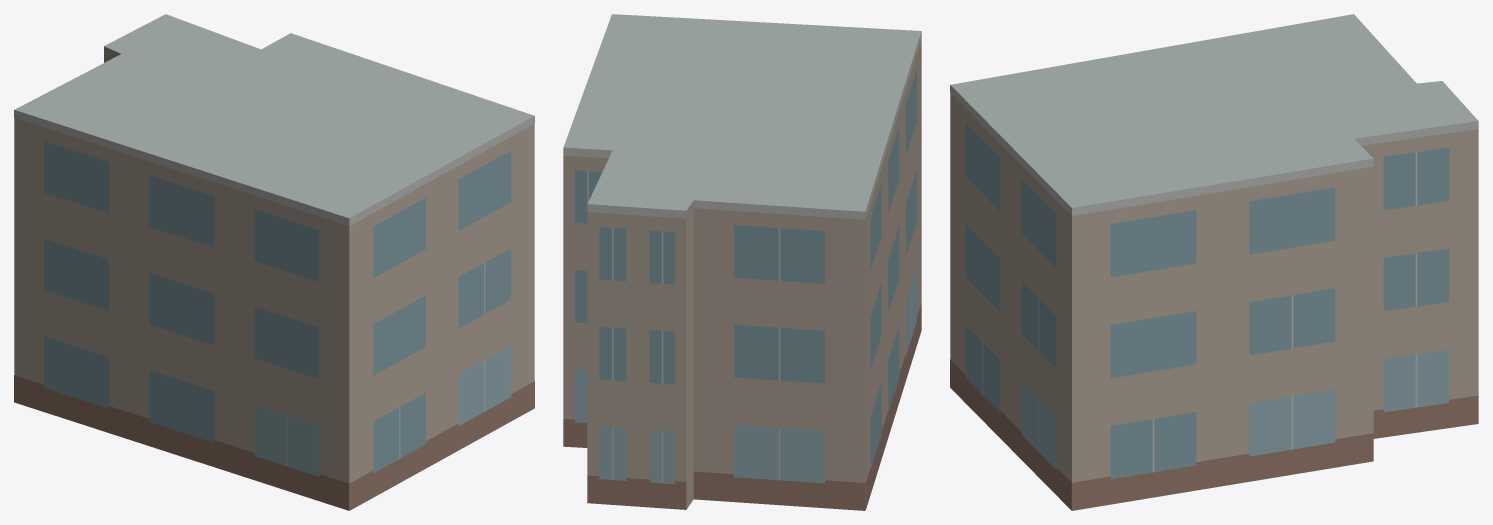
File: survey-upis-32866805.glb
3 views of the same model, side by side, from view 1: azimuth 30°, elevation 25°; view 2: azimuth 150°, elevation 25°; view 3: azimuth 270°, elevation 25° (orthographic). The views are drawn at different scales.
Parts seen in each view (by area): view 1: survey-upis-32866805.tmp; view 2: survey-upis-32866805.tmp; view 3: survey-upis-32866805.tmp.
Boxes of the visible parts, x1,y1,x2,y2 form: survey-upis-32866805.tmp: [14, 14, 534, 510]; survey-upis-32866805.tmp: [563, 14, 921, 510]; survey-upis-32866805.tmp: [950, 14, 1478, 510].
Bounding box in the file's own units: 12.59 × 9.15 × 14.48.
